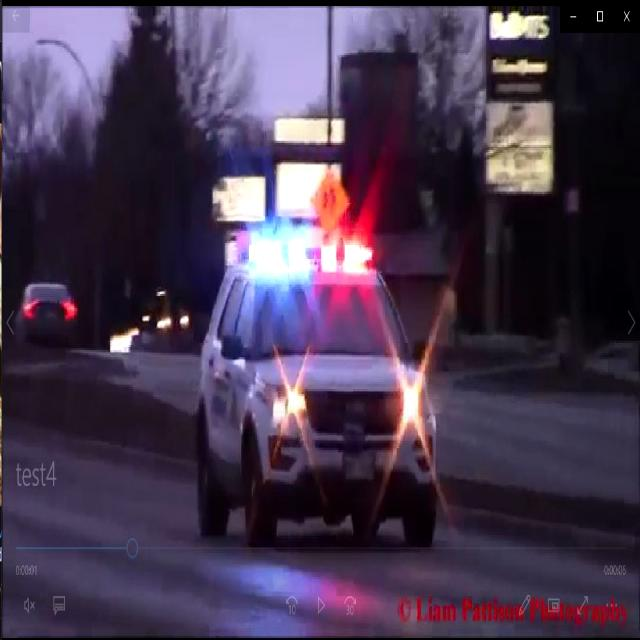emergency: (196, 209, 441, 536)
